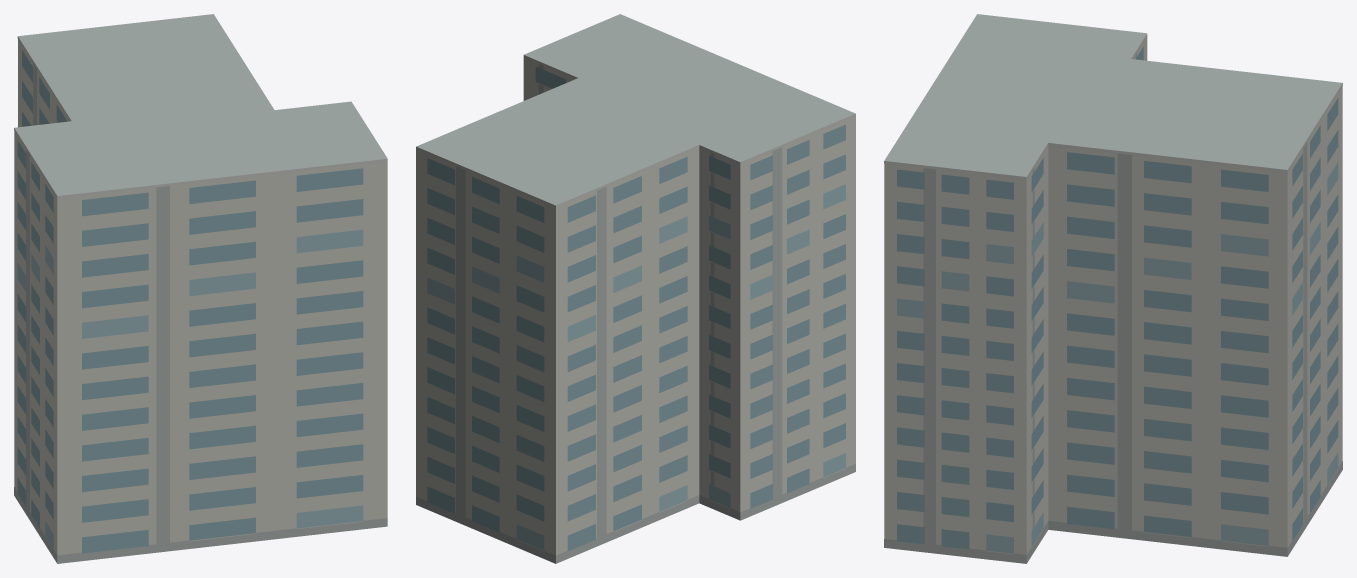
The model's file is residential-07e48c6e-a132-49cf-89c4-f0f92e3cf9f0.glb.
3 renders of one model, left to right at view 1: azimuth 30°, elevation 25°; view 2: azimuth 150°, elevation 25°; view 3: azimuth 270°, elevation 25°, orthographic. The views are drawn at different scales.
Parts seen in each view (by area): view 1: residential-07e48c6e-a132-49cf-89c4-f0f92e3cf9f0.tmp; view 2: residential-07e48c6e-a132-49cf-89c4-f0f92e3cf9f0.tmp; view 3: residential-07e48c6e-a132-49cf-89c4-f0f92e3cf9f0.tmp.
Boxes of the visible parts, box(x1,y1,x2,y2) form: residential-07e48c6e-a132-49cf-89c4-f0f92e3cf9f0.tmp: box(14, 14, 387, 563); residential-07e48c6e-a132-49cf-89c4-f0f92e3cf9f0.tmp: box(416, 14, 855, 563); residential-07e48c6e-a132-49cf-89c4-f0f92e3cf9f0.tmp: box(884, 14, 1342, 563).
Size of the model in its own units: 30.72 by 34 by 36.54.
